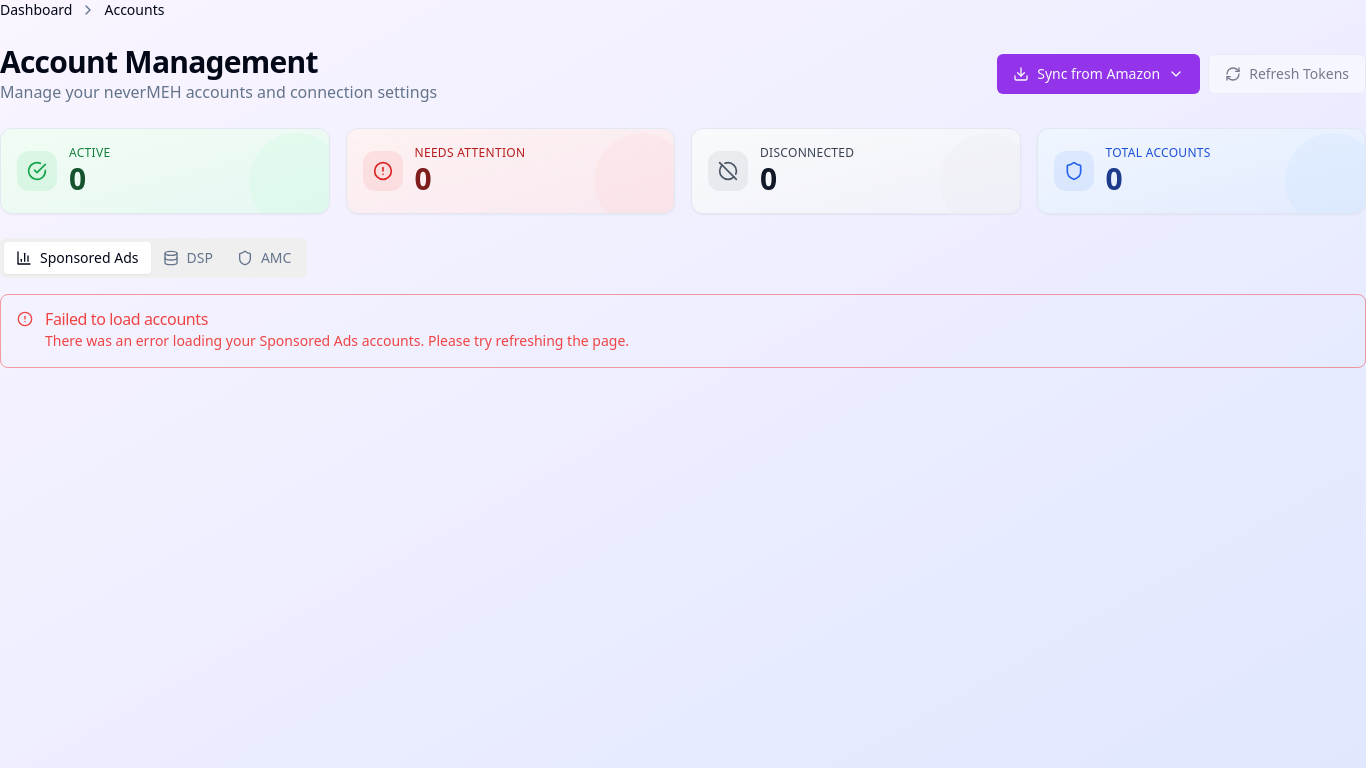
Test: AccountManagementPage › Error Handling › should show permission denied message for DSP when user lacks access
Click the tab "DSP" at (188, 258), box [150, 242, 225, 274]
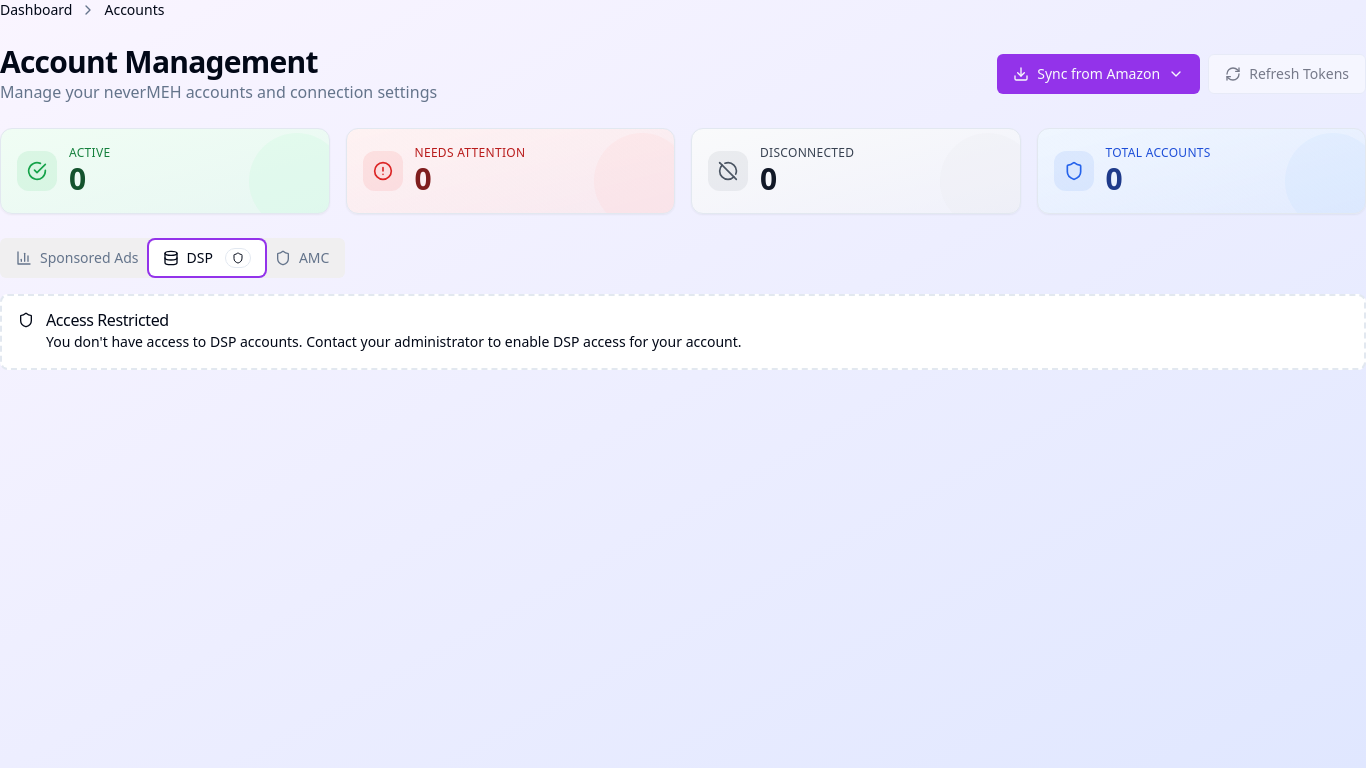
Expected: the text "Contact your administrator" is shown, [46, 332, 742, 351]
